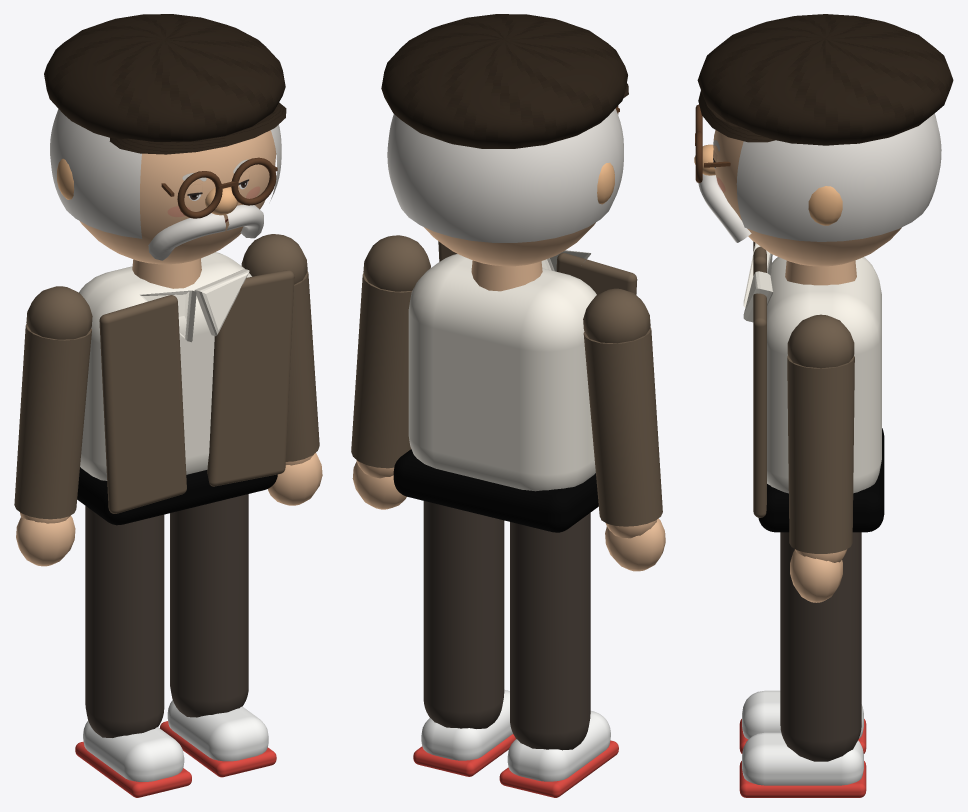
Rendered from kisi-dede.glb.
3 views of the same model, side by side, from view 1: azimuth 30°, elevation 25°; view 2: azimuth 150°, elevation 25°; view 3: azimuth 270°, elevation 25° (orthographic). The views are drawn at different scales.
Parts seen in each view (by area): view 1: bas, govde, bacakL, bacakR, kolL, kolR; view 2: bas, govde, bacakL, bacakR, kolL, kolR; view 3: bas, govde, bacakR, kolR, bacakL.
Boxes of the visible parts, x1,y1,x2,y2 form: bas: (44, 14, 286, 264); govde: (77, 252, 294, 525); bacakL: (75, 506, 191, 797); bacakR: (160, 494, 276, 777); kolL: (14, 286, 92, 566); kolR: (241, 234, 322, 505); bas: (381, 14, 628, 266); govde: (393, 241, 637, 532); bacakL: (499, 513, 618, 797); bacakR: (413, 501, 515, 776); kolL: (583, 288, 665, 571); kolR: (351, 235, 430, 509); bas: (694, 14, 953, 266); govde: (743, 241, 884, 532); bacakR: (739, 532, 866, 797); kolR: (787, 314, 854, 602); bacakL: (739, 690, 866, 753).
Size of the model in its own units: 0.7279 by 1.65 by 0.5338.
13 materials, 2 textured.
